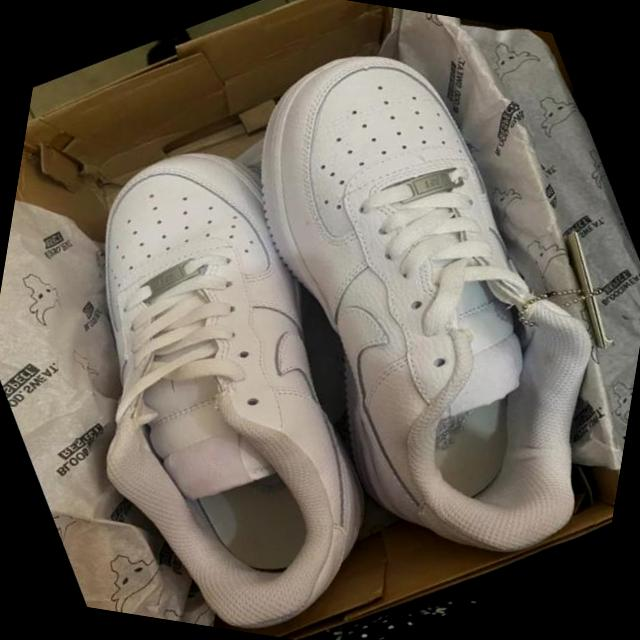nike_fake_airforce: (148, 0, 640, 630), (0, 93, 497, 640)
